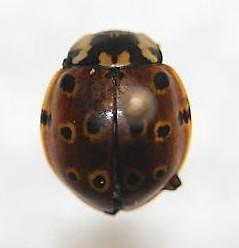ladybug: (38, 28, 194, 218)
